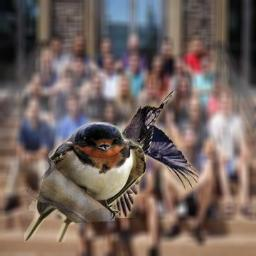Crow: (113, 91, 199, 218)
Swallow: (24, 122, 146, 242)
